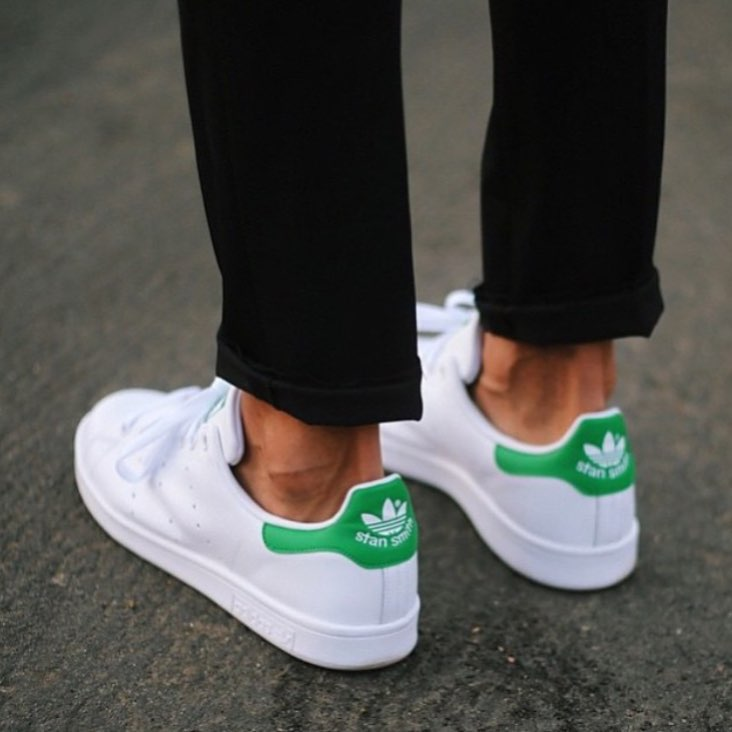sneaker: (52, 357, 447, 688), (360, 269, 664, 605)
